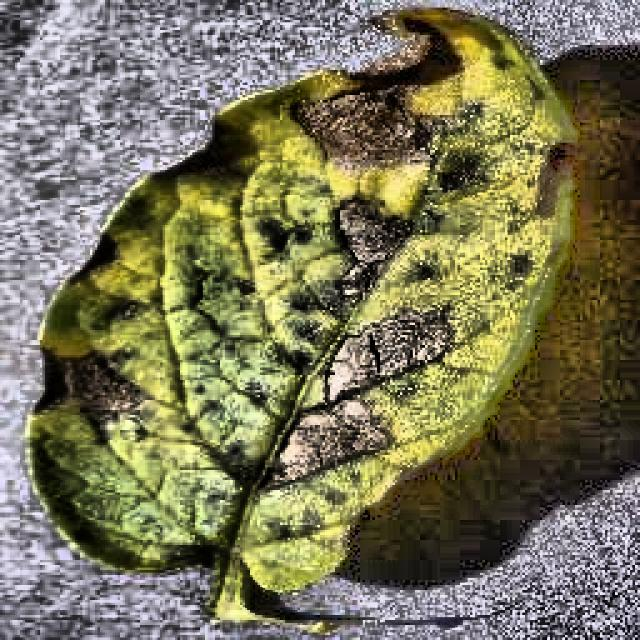Potato_leaf_early_blight: (30, 8, 568, 620)
